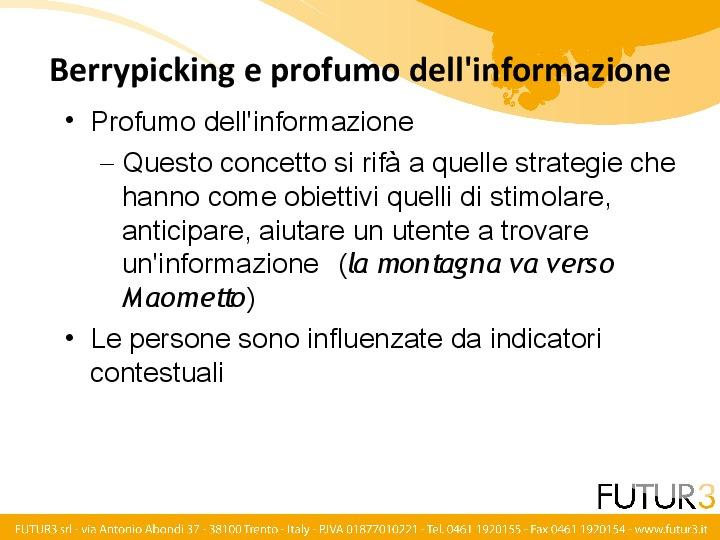paragraph: (57, 103, 701, 422)
title: (43, 38, 684, 100)
